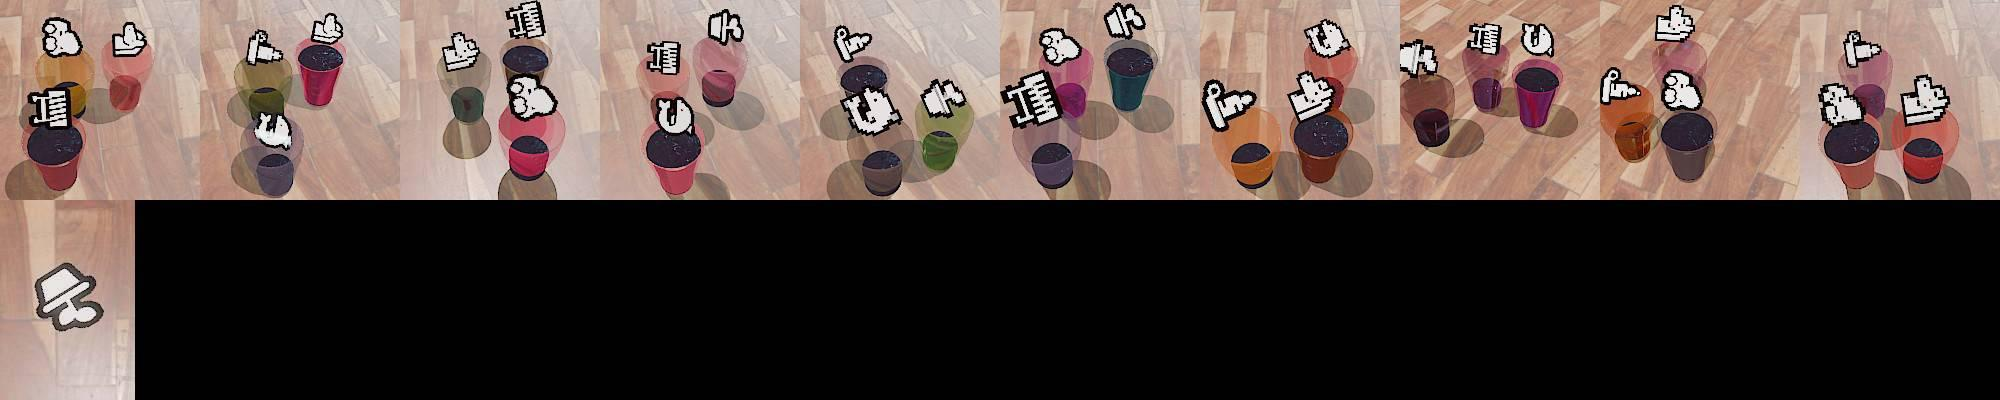icon: (29, 261, 105, 332), (1001, 69, 1062, 130), (839, 84, 902, 136), (1202, 75, 1258, 130), (1899, 73, 1952, 126), (1288, 70, 1339, 122), (508, 74, 560, 120), (1819, 82, 1867, 126), (27, 85, 74, 130), (1659, 68, 1703, 112), (1304, 18, 1351, 59), (921, 76, 966, 117), (652, 94, 696, 135), (1598, 66, 1644, 106), (41, 17, 83, 59), (832, 23, 874, 64), (1102, 1, 1145, 41), (505, 0, 546, 41), (253, 110, 293, 150), (441, 31, 481, 73), (1040, 27, 1082, 66), (1654, 4, 1695, 43), (1399, 38, 1439, 79), (1843, 28, 1881, 69), (246, 28, 286, 66), (111, 20, 148, 57), (1467, 20, 1504, 57), (645, 39, 682, 76), (1520, 20, 1556, 59), (708, 9, 744, 46), (311, 11, 343, 45)
